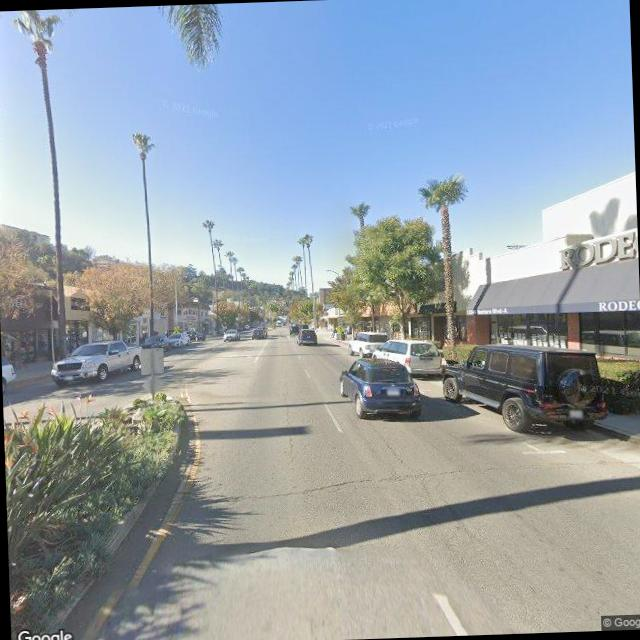crack: (177, 454, 640, 504)
